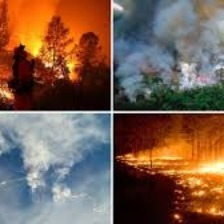incendio: (9, 4, 108, 101), (121, 131, 218, 218), (123, 19, 221, 102), (17, 142, 94, 217)
